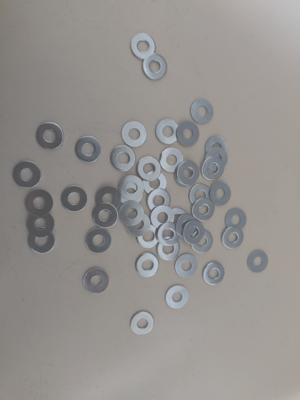circle: (36, 122, 64, 150), (25, 190, 54, 217), (13, 162, 41, 189), (76, 136, 102, 163), (28, 228, 55, 254), (131, 33, 156, 61), (62, 186, 88, 212), (143, 54, 168, 81), (27, 213, 55, 237), (122, 122, 147, 148), (111, 146, 136, 172), (86, 229, 112, 254), (93, 204, 119, 229), (84, 269, 109, 294), (96, 187, 121, 212), (135, 253, 160, 278), (119, 176, 144, 201), (119, 201, 144, 226), (126, 212, 151, 237), (130, 311, 155, 335), (160, 148, 184, 173), (166, 208, 190, 233), (156, 119, 179, 145), (165, 285, 189, 309), (143, 172, 167, 196), (136, 225, 160, 249), (156, 223, 180, 247), (157, 237, 181, 261), (191, 99, 214, 124), (177, 122, 200, 147), (175, 162, 198, 187), (138, 157, 161, 182), (121, 181, 144, 206), (205, 148, 228, 172), (147, 189, 171, 212), (192, 198, 215, 222), (152, 206, 175, 230), (191, 230, 214, 254), (178, 161, 200, 186), (175, 255, 198, 278), (205, 136, 228, 159), (202, 157, 224, 181), (190, 184, 212, 208), (184, 220, 205, 245), (203, 263, 225, 286), (222, 227, 244, 250), (225, 208, 247, 231), (210, 183, 232, 206), (248, 250, 269, 273), (177, 214, 197, 238)
